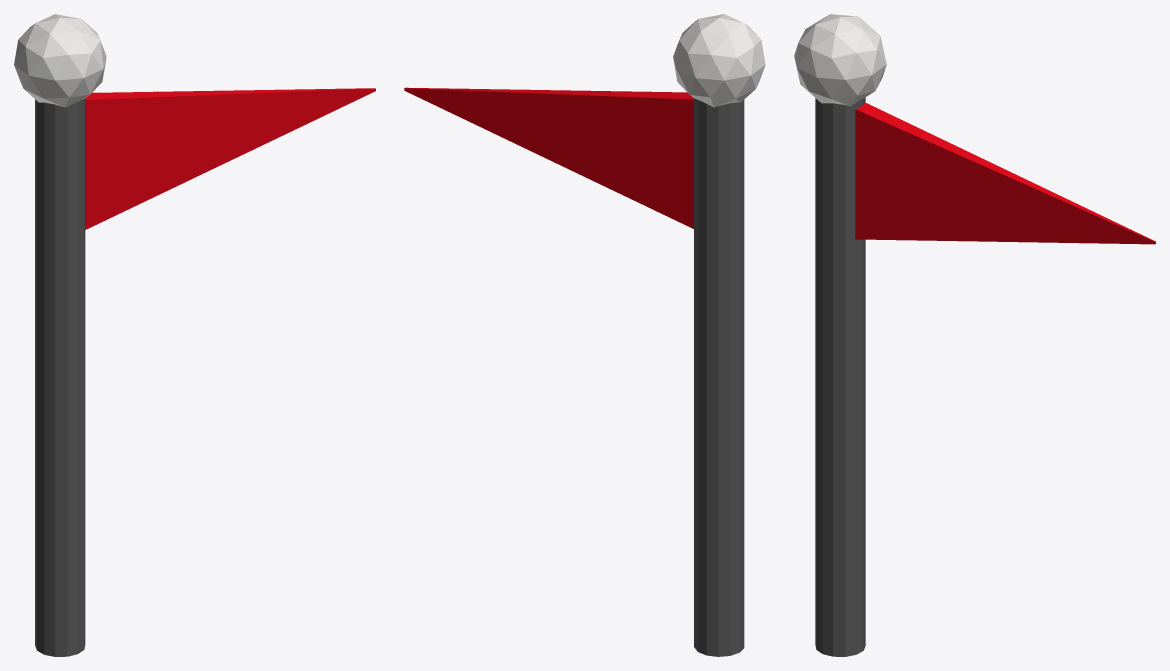
Rendered from Flag.fbx.
3 views of the same model, side by side, from view 1: azimuth 30°, elevation 25°; view 2: azimuth 150°, elevation 25°; view 3: azimuth 330°, elevation 25° (orthographic).
Visible parts, largest first — view 1: Cube; view 2: Cube; view 3: Cube.
Part boxes in pixels (<box>): Cube: <box>14,14,375,656</box>; Cube: <box>404,14,765,656</box>; Cube: <box>794,14,1155,656</box>.
Size of the model in its own units: 1791 by 3039 by 415.
